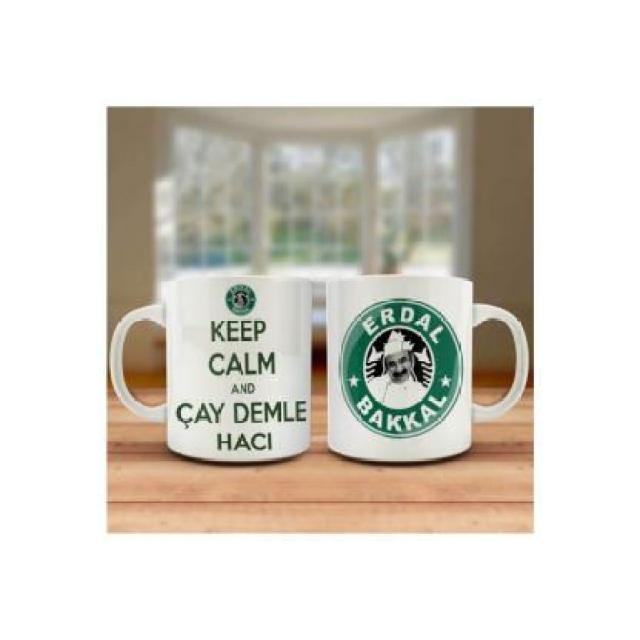taza: (324, 270, 531, 464), (110, 274, 314, 466)
